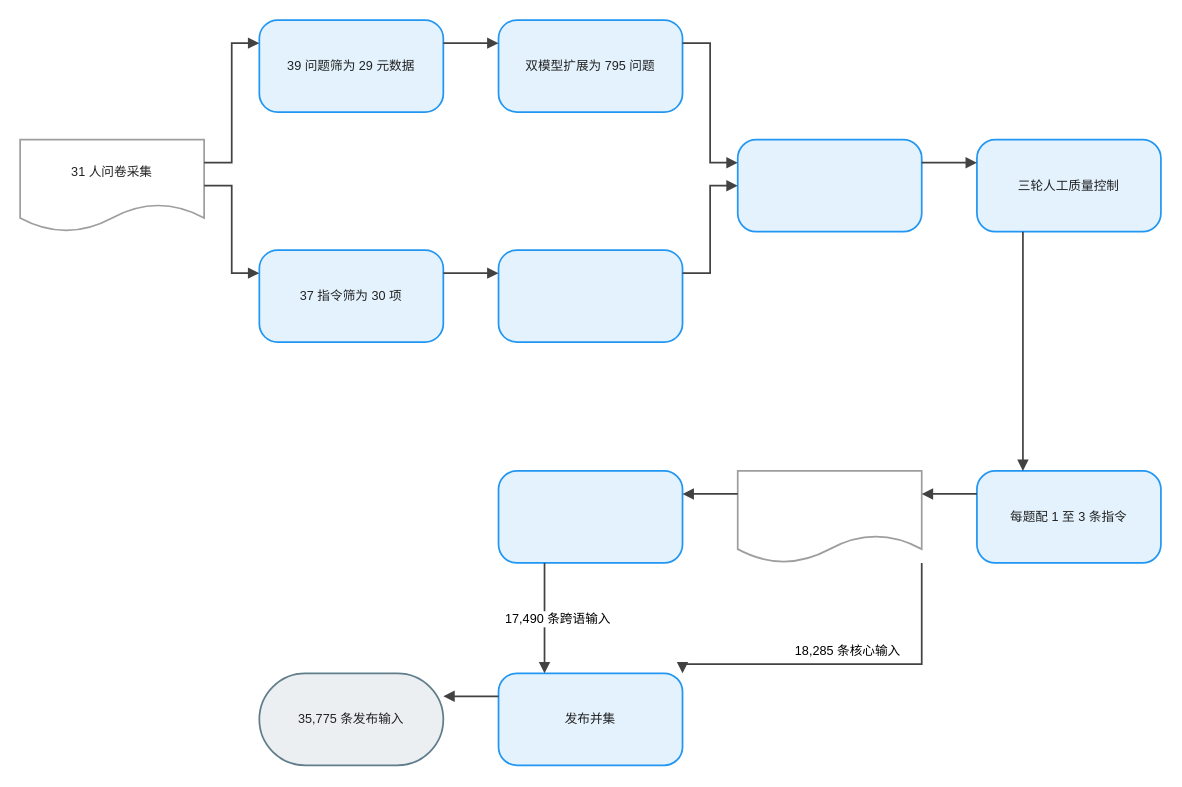
This 1182x787 diagram has some shape labels left out. The shapes that lost their labels are listed below. From the top down, each one's centre as x and y in pixels, then its label:
At (x=829, y=185): "翻译为 23 种语言".
At (x=590, y=295): "扩展为 47 类指令".
At (x=590, y=516): "22 × 795 跨语打包".
At (x=829, y=516): "23 × 795 并行核心集".
